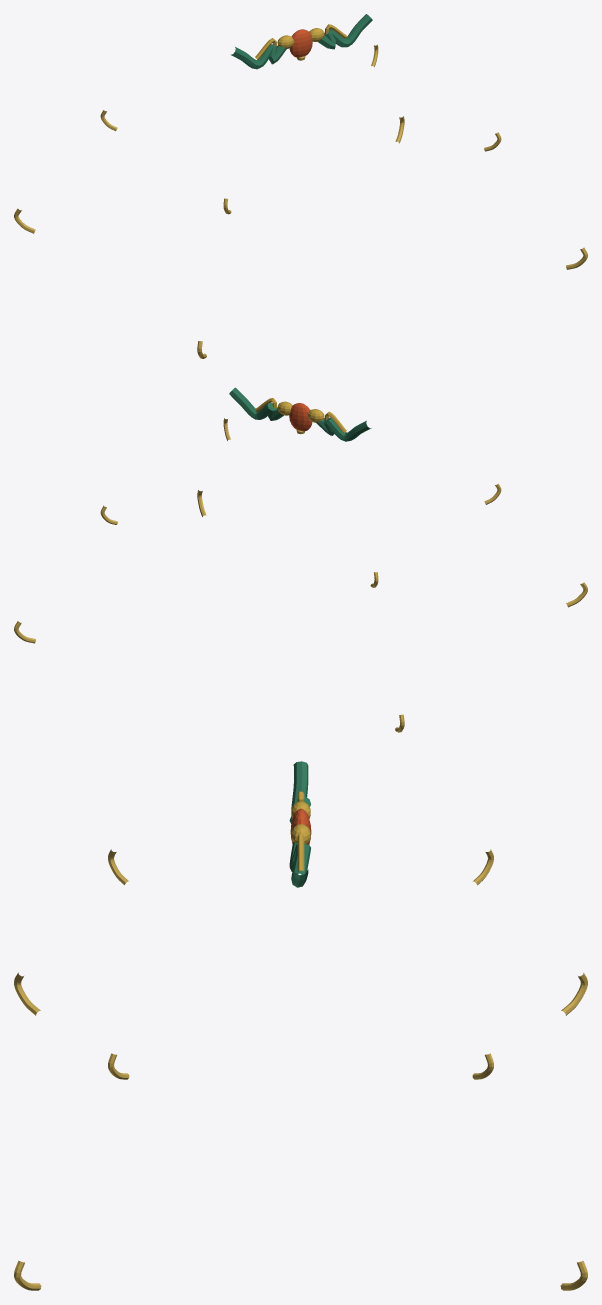
File: gate-ketrai-hero.glb
3 renders of one model, top to bottom at view 1: azimuth 30°, elevation 25°; view 2: azimuth 150°, elevation 25°; view 3: azimuth 270°, elevation 25°, orthographic. The views are drawn at different scales.
Visible parts, largest first — view 1: gate_ketrai_hero; view 2: gate_ketrai_hero; view 3: gate_ketrai_hero.
Boxes of the visible parts, box(x1,y1,x2,y2) form: gate_ketrai_hero: box(14, 14, 587, 358); gate_ketrai_hero: box(14, 387, 587, 732); gate_ketrai_hero: box(14, 761, 587, 1290).
Size of the model in its own units: 11.41 by 6.2 by 9.41.
